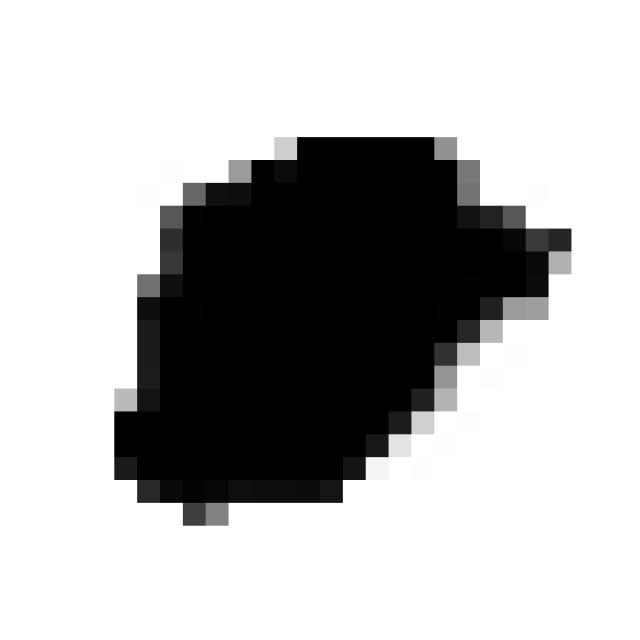0 -zero-: (93, 119, 590, 537)
